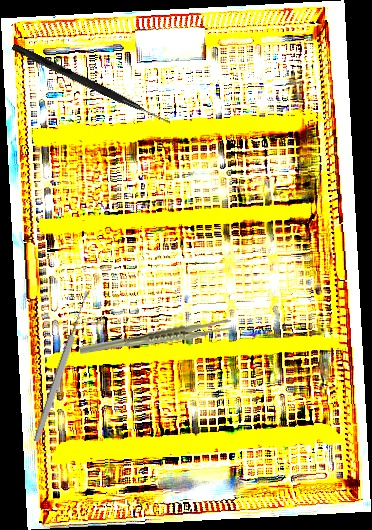Hook Surgical: (10, 43, 173, 126)
Surgical Spoon: (32, 290, 92, 443)
Tissue Forceps: (79, 316, 233, 358)
